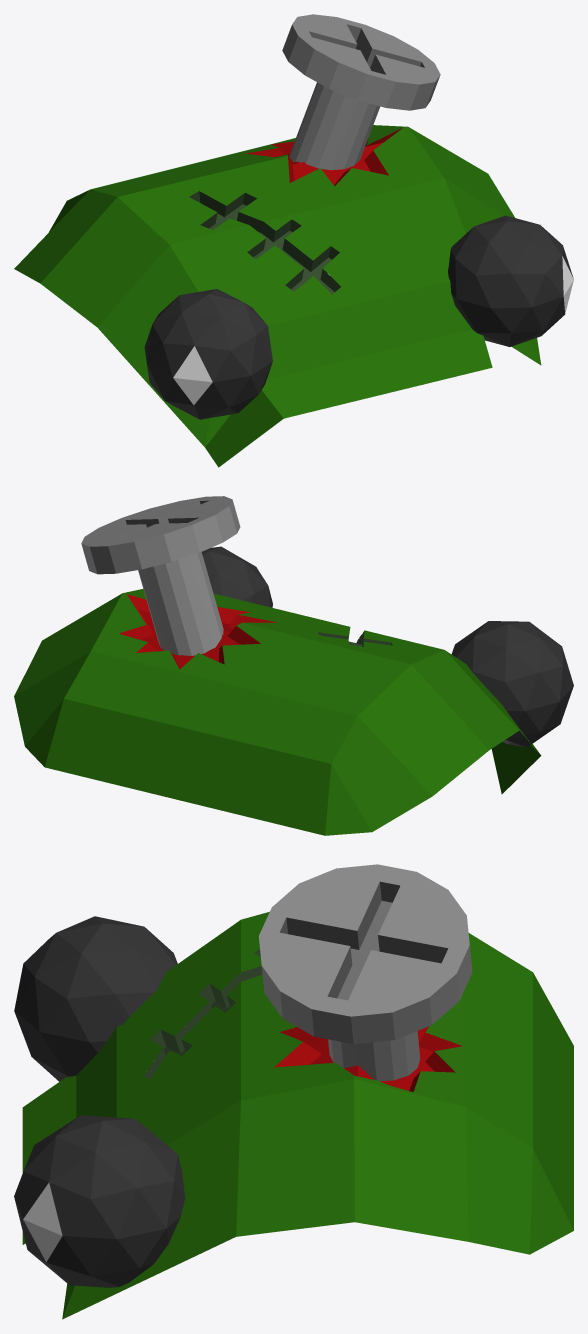
File: Frankenstein.glb
3 renders of one model, top to bottom at view 1: azimuth 30°, elevation 25°; view 2: azimuth 150°, elevation 25°; view 3: azimuth 270°, elevation 25°, orthographic. The views are drawn at different scales.
Parts seen in each view (by area): view 1: snakeBase.002, eyeR.001, eyeR.004, Cylinder.005, Cylinder.002; view 2: snakeBase.002, eyeR.001, Cylinder.005, Cylinder.002, eyeR.004; view 3: snakeBase.002, Cylinder.005, eyeR.004, eyeR.001, Cylinder.002.
Part boxes in pixels (x1=…): snakeBase.002: x1=14, y1=125, x2=541, y2=467; eyeR.001: x1=144, y1=289, x2=272, y2=419; eyeR.004: x1=448, y1=215, x2=573, y2=346; Cylinder.005: x1=282, y1=14, x2=440, y2=110; Cylinder.002: x1=289, y1=82, x2=380, y2=170; snakeBase.002: x1=14, y1=589, x2=541, y2=835; eyeR.001: x1=451, y1=621, x2=573, y2=747; Cylinder.005: x1=81, y1=496, x2=240, y2=574; Cylinder.002: x1=138, y1=552, x2=223, y2=655; eyeR.004: x1=201, y1=546, x2=272, y2=607; snakeBase.002: x1=22, y1=912, x2=573, y2=1319; Cylinder.005: x1=258, y1=864, x2=472, y2=1044; eyeR.004: x1=14, y1=1115, x2=184, y2=1287; eyeR.001: x1=14, y1=916, x2=177, y2=1081; Cylinder.002: x1=328, y1=1031, x2=420, y2=1081.
Size of the model in its own units: 0.8576 by 0.5694 by 0.6873.
